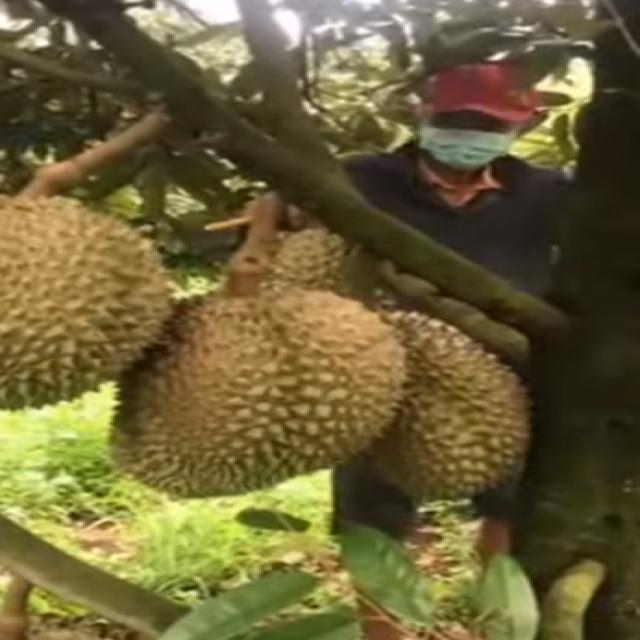mature: (114, 279, 407, 506), (322, 301, 538, 503), (0, 191, 185, 413)
